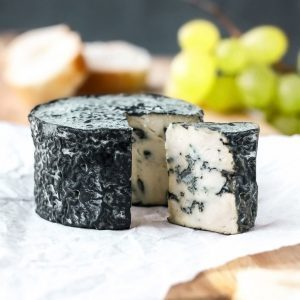cheese: (22, 96, 220, 238), (160, 116, 278, 244)
